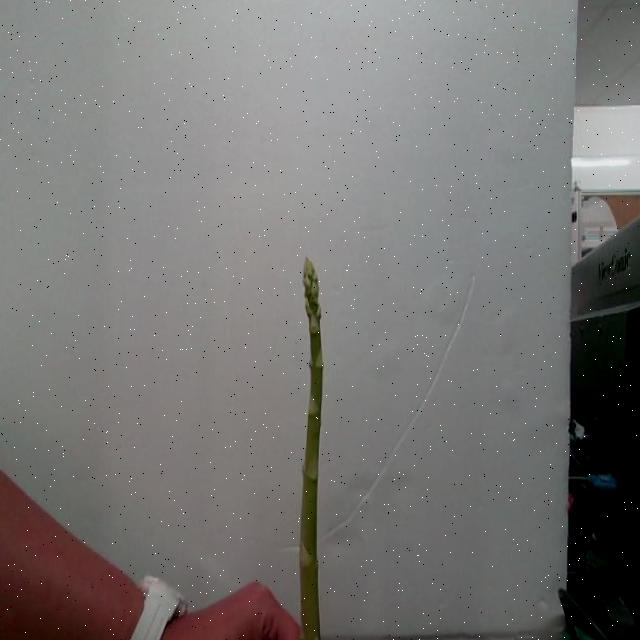aspargus: (296, 258, 323, 640)
